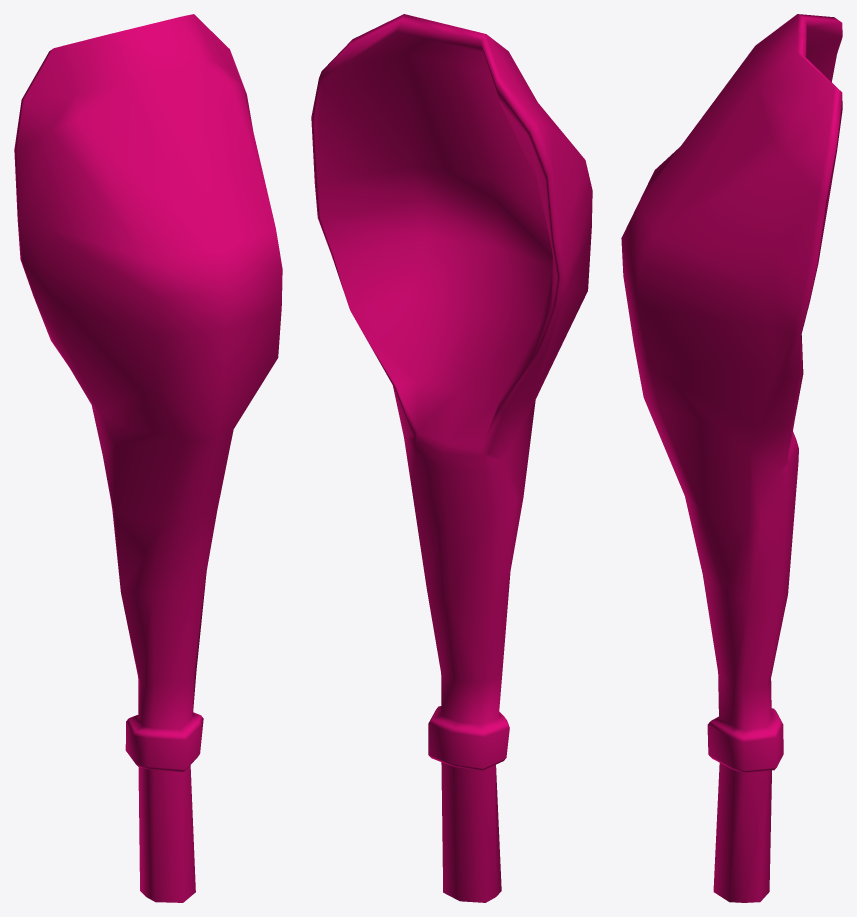
File: Medieval_Dark_Spoon_FBX.fbx
3 renders of one model, left to right at view 1: azimuth 30°, elevation 25°; view 2: azimuth 150°, elevation 25°; view 3: azimuth 270°, elevation 25°, orthographic. The views are drawn at different scales.
Visible parts, largest first — view 1: Medieval_Dark_Spoon; view 2: Medieval_Dark_Spoon; view 3: Medieval_Dark_Spoon.
Boxes of the visible parts, <box> form: Medieval_Dark_Spoon: <box>14,14,282,902</box>; Medieval_Dark_Spoon: <box>311,14,592,902</box>; Medieval_Dark_Spoon: <box>621,14,842,902</box>.
Bounding box in the file's own units: 8.66 × 29.72 × 6.93.
